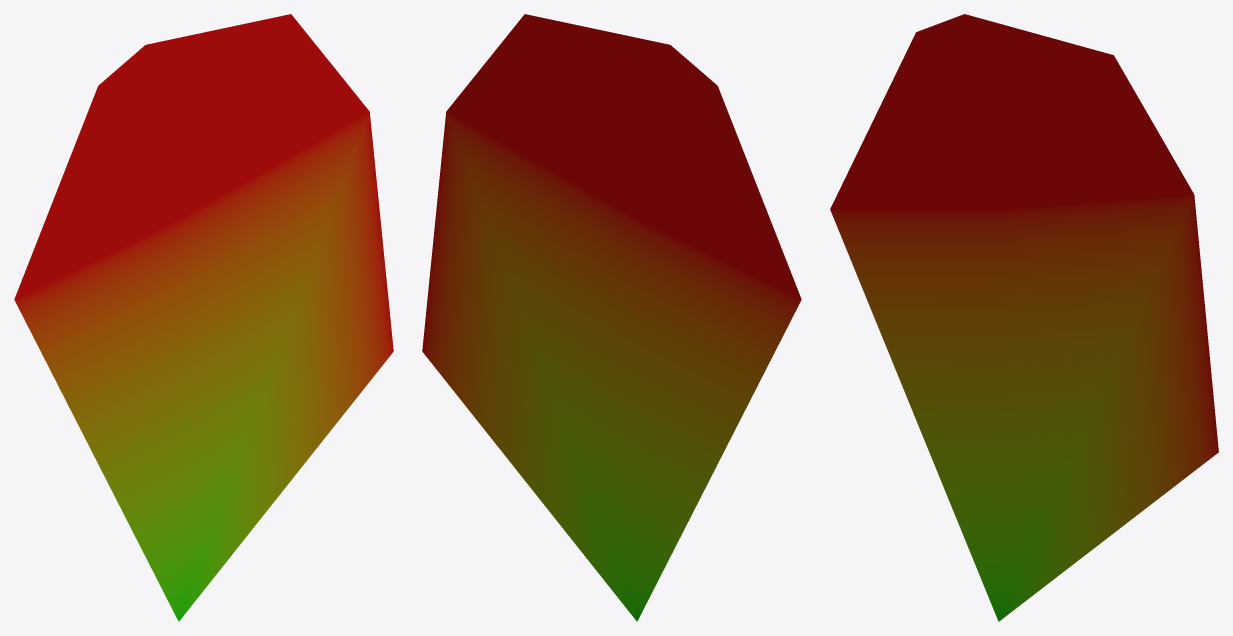
The model's file is Rose Hip_LOD5_Var8.fbx.
3 views of the same model, side by side, from view 1: azimuth 30°, elevation 25°; view 2: azimuth 150°, elevation 25°; view 3: azimuth 330°, elevation 25° (orthographic). The views are drawn at different scales.
Visible parts, largest first — view 1: _cs0e_Var8_LOD5; view 2: _cs0e_Var8_LOD5; view 3: _cs0e_Var8_LOD5.
Boxes of the visible parts, x1=… form: _cs0e_Var8_LOD5: x1=14, y1=14, x2=393, y2=621; _cs0e_Var8_LOD5: x1=422, y1=14, x2=801, y2=621; _cs0e_Var8_LOD5: x1=830, y1=14, x2=1218, y2=621.
Bounding box in the file's own units: 76.61 × 113 × 1.75e-10.
